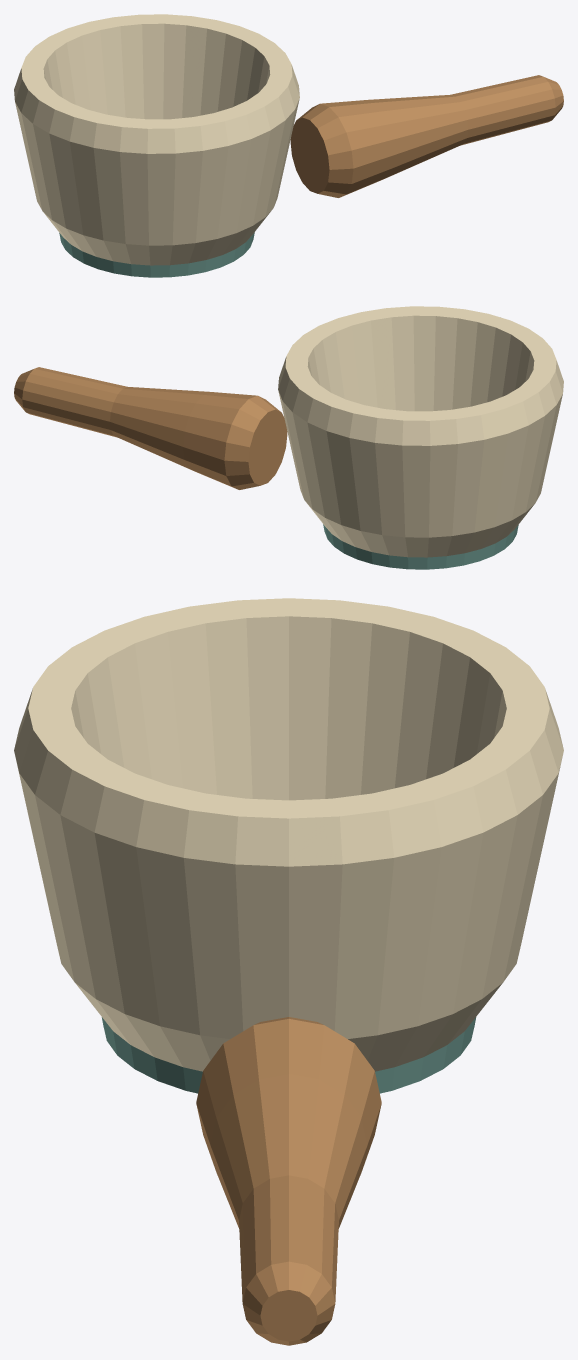
3 renders of one model, top to bottom at view 1: azimuth 30°, elevation 25°; view 2: azimuth 150°, elevation 25°; view 3: azimuth 270°, elevation 25°, orthographic. The views are drawn at different scales.
Parts seen in each view (by area): view 1: kitchen-mortar-pestle-01; view 2: kitchen-mortar-pestle-01; view 3: kitchen-mortar-pestle-01.
Part boxes in pixels (box(x1,y1,x2,y2)): kitchen-mortar-pestle-01: box(14, 14, 563, 277); kitchen-mortar-pestle-01: box(14, 306, 563, 569); kitchen-mortar-pestle-01: box(14, 598, 563, 1345).
Size of the model in its own units: 0.325 by 0.098 by 0.154.
